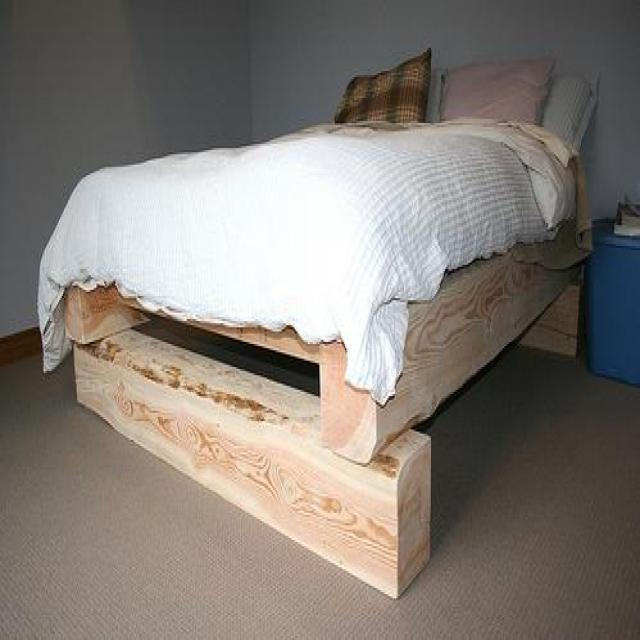bed: (37, 54, 598, 598)
